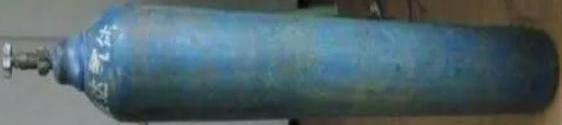cylinder: (1, 1, 562, 125)
